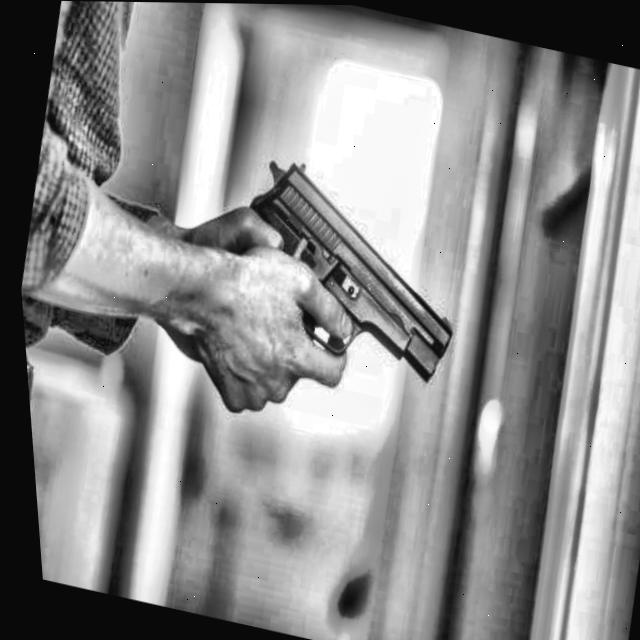pistol: (240, 156, 464, 398)
